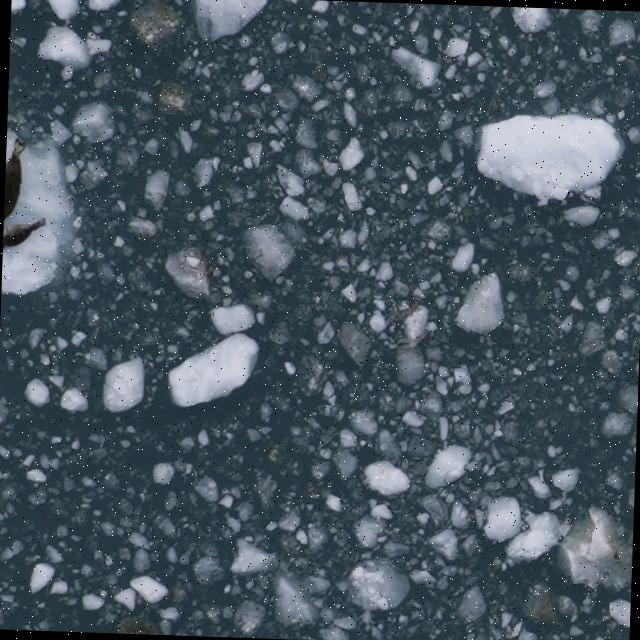seal: (4, 133, 30, 232), (3, 210, 51, 254)
